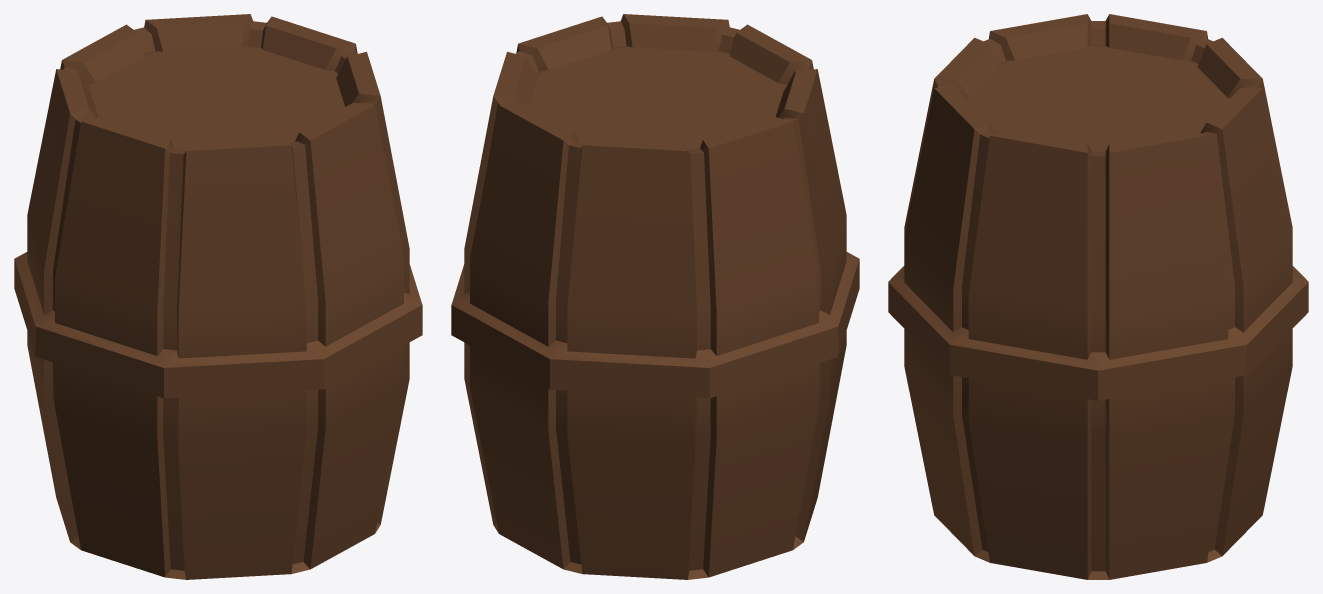
Rendered from a_z3_barrel_m.fbx.
The picture shows the model from 3 angles, left to right: view 1: azimuth 30°, elevation 25°; view 2: azimuth 150°, elevation 25°; view 3: azimuth 270°, elevation 25°; orthographic projection.
Parts seen in each view (by area): view 1: a_z3_barrel_m; view 2: a_z3_barrel_m; view 3: a_z3_barrel_m.
Part boxes in pixels (x1,y1,x2,y2): a_z3_barrel_m: (14,14,422,579); a_z3_barrel_m: (451,14,859,579); a_z3_barrel_m: (888,14,1308,579).
Bounding box in the file's own units: 137 × 154 × 137.
